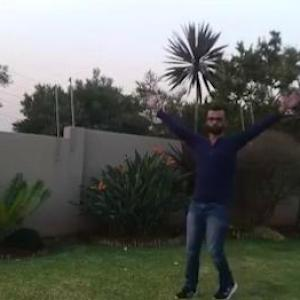takeoff: (151, 95, 299, 299)
